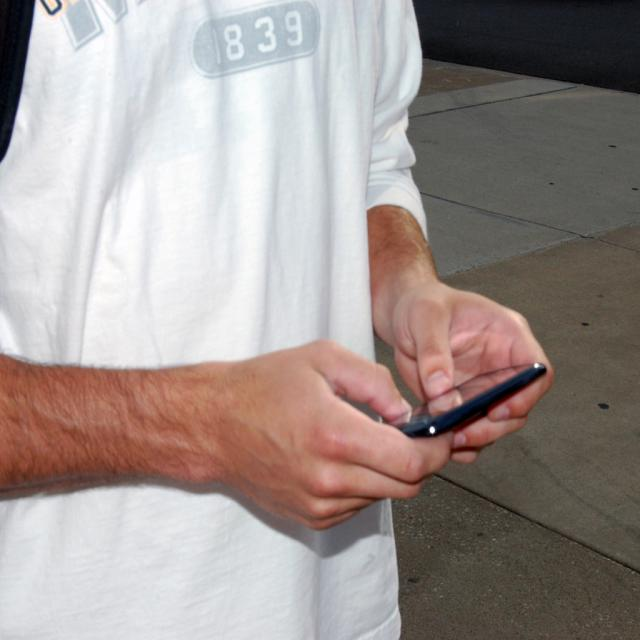Mobile-phone: (383, 363, 544, 437)
